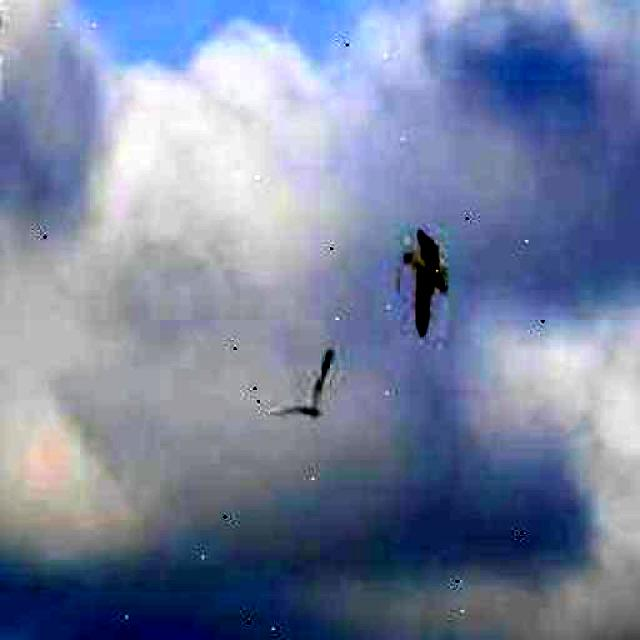airplane: (399, 228, 449, 336), (271, 346, 331, 418)
